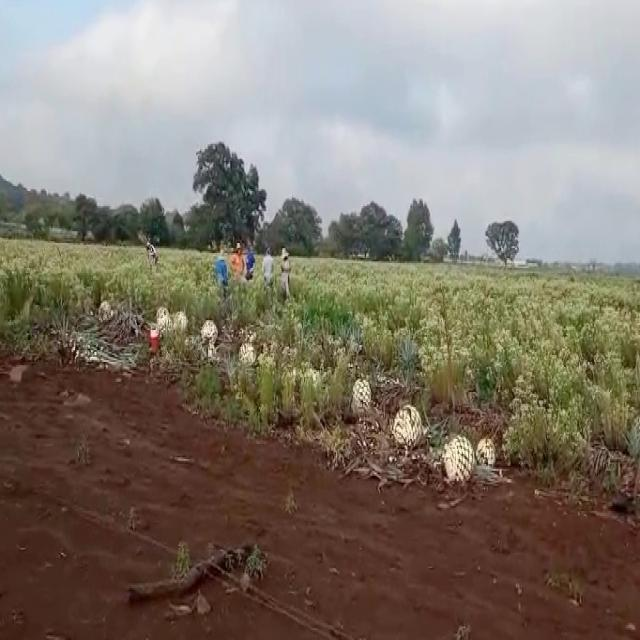agave: (444, 434, 477, 481), (393, 404, 424, 451), (478, 429, 502, 469), (350, 379, 374, 414), (200, 320, 220, 349), (239, 342, 256, 371), (171, 309, 189, 334), (159, 313, 173, 338), (100, 298, 111, 324)
